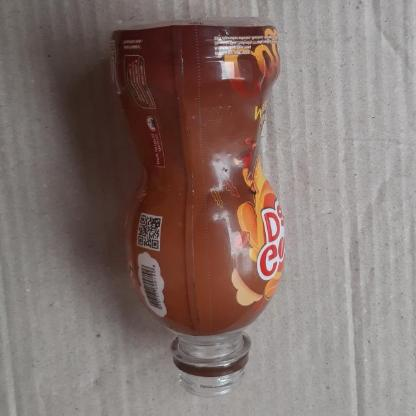Plastic Bottle: (109, 15, 285, 400)
